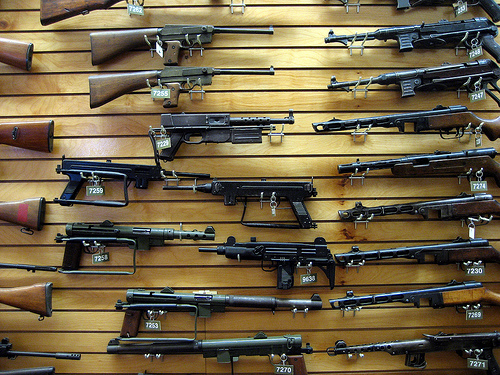rifle: (113, 281, 319, 330), (294, 102, 500, 151), (323, 139, 500, 187), (55, 220, 211, 271), (93, 20, 276, 59), (88, 65, 271, 104), (121, 110, 304, 149), (158, 172, 341, 211), (106, 331, 305, 361), (326, 190, 500, 224), (324, 13, 492, 48), (192, 239, 352, 275), (36, 161, 198, 196), (332, 64, 494, 99), (334, 244, 500, 267), (332, 282, 498, 305), (330, 333, 496, 356)
